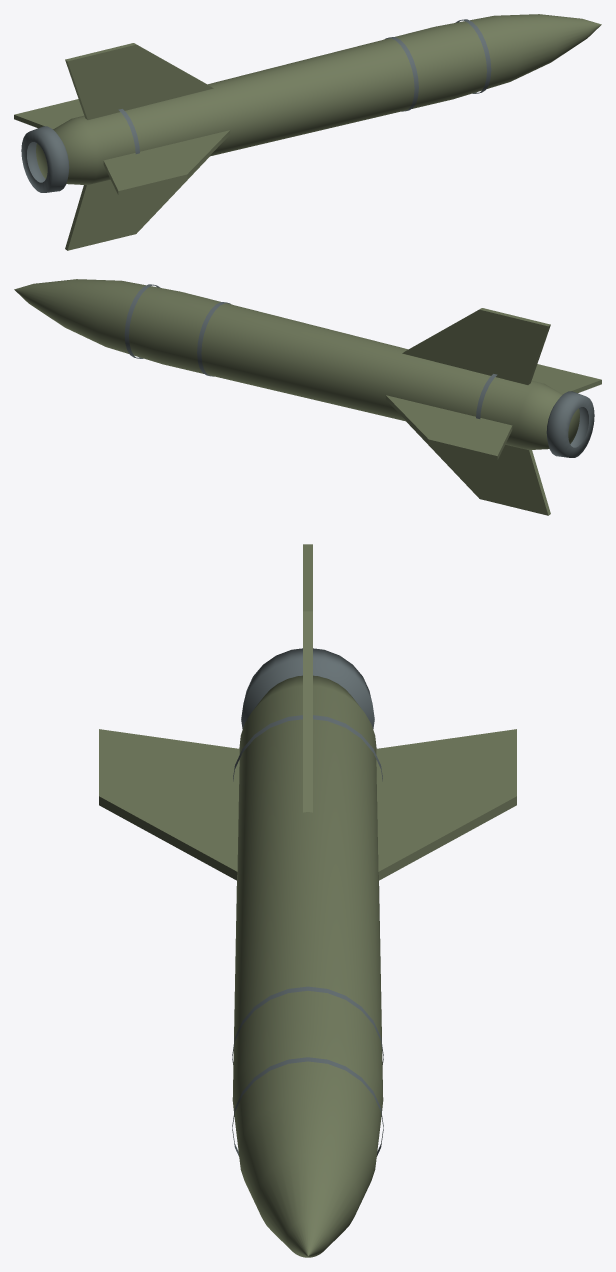
Rendered from missile.glb.
3 views of the same model, one above another, from view 1: azimuth 30°, elevation 25°; view 2: azimuth 150°, elevation 25°; view 3: azimuth 270°, elevation 25° (orthographic). The views are drawn at different scales.
Parts seen in each view (by area): view 1: missile-body, swept-fin, swept-fin.002, swept-fin.001, exhaust-lip, swept-fin.003, panel-seam, panel-seam.002; view 2: missile-body, swept-fin, swept-fin.002, swept-fin.003, exhaust-lip, swept-fin.001, panel-seam, panel-seam.002; view 3: missile-body, swept-fin.001, swept-fin.003, exhaust-lip, swept-fin.
Part boxes in pixels (x1,y1,x2,y2): missile-body: (36,14,601,184); swept-fin: (65,43,213,119); swept-fin.002: (65,156,209,250); swept-fin.001: (103,130,230,195); exhaust-lip: (21,126,69,192); swept-fin.003: (14,99,84,129); panel-seam: (455,19,491,93); panel-seam.002: (385,37,418,111); missile-body: (14,279,579,449); swept-fin: (402,308,550,384); swept-fin.002: (406,421,550,515); swept-fin.003: (385,395,512,460); exhaust-lip: (546,391,594,457); swept-fin.001: (531,364,601,394); panel-seam: (124,284,160,358); panel-seam.002: (197,302,230,376); missile-body: (232,675,383,1257); swept-fin.001: (99,729,239,880); swept-fin.003: (376,729,516,880); exhaust-lip: (241,648,374,728); swept-fin: (303,544,312,812).
Bounding box in the file's own units: 1.56 × 0.5 × 0.5.
